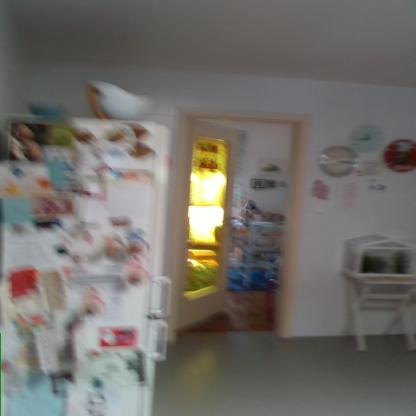semi: (166, 105, 317, 340)
